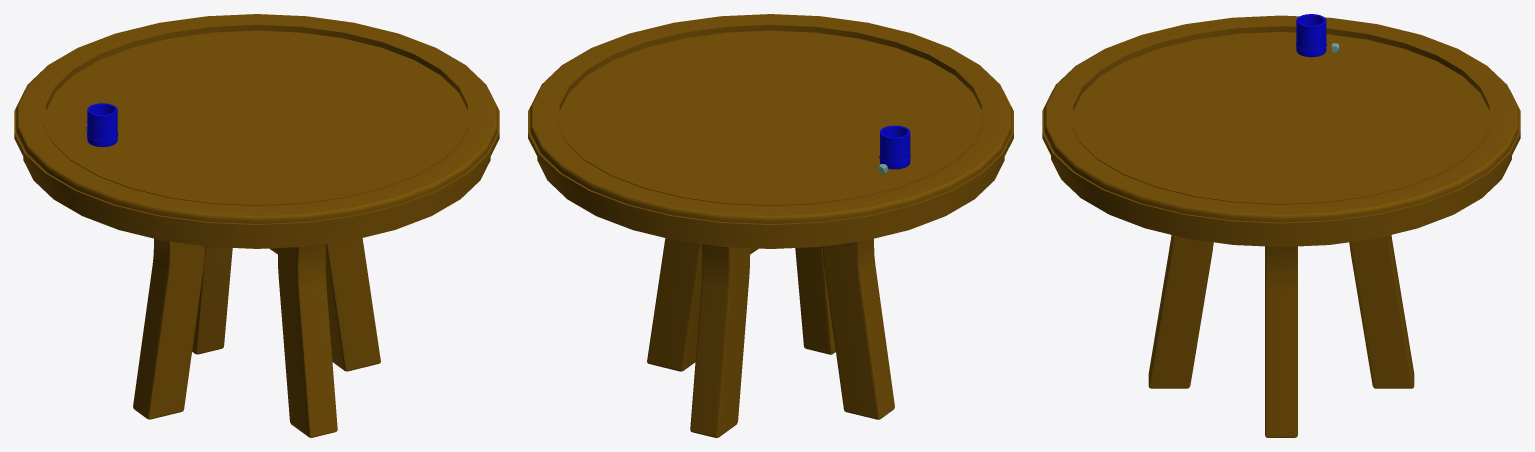
Rendered from DiceAndTable.fbx.
The picture shows the model from 3 angles, left to right: view 1: azimuth 30°, elevation 25°; view 2: azimuth 150°, elevation 25°; view 3: azimuth 270°, elevation 25°; orthographic projection.
Visible parts, largest first — view 1: DiceGameTable:Table, Cup; view 2: DiceGameTable:Table, Cup; view 3: DiceGameTable:Table, Cup.
Boxes of the visible parts, x1,y1,x2,y2 form: DiceGameTable:Table: (14, 14, 499, 437); Cup: (87, 103, 118, 146); DiceGameTable:Table: (528, 14, 1013, 437); Cup: (879, 125, 910, 169); DiceGameTable:Table: (1042, 15, 1520, 437); Cup: (1296, 14, 1326, 57).
Size of the model in its own units: 11.5 by 7.8 by 11.44.
